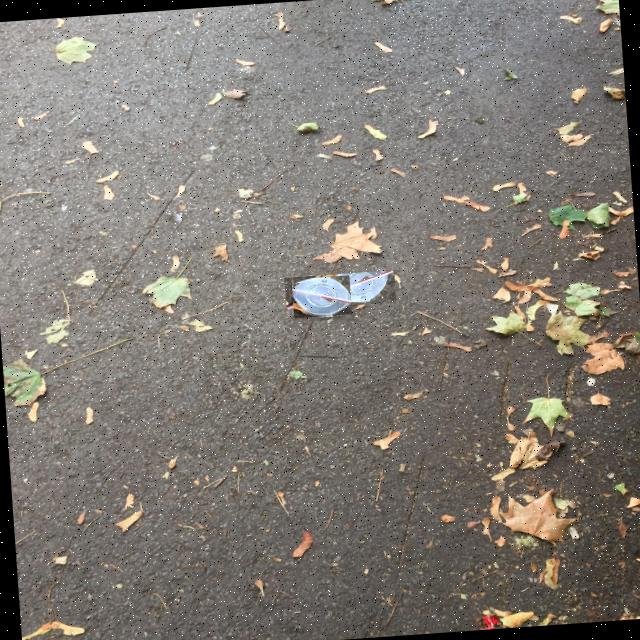Plastic lid: (292, 277, 351, 316)
Plastic straw: (286, 270, 394, 309)
Unlabeled litter: (480, 616, 500, 627)
